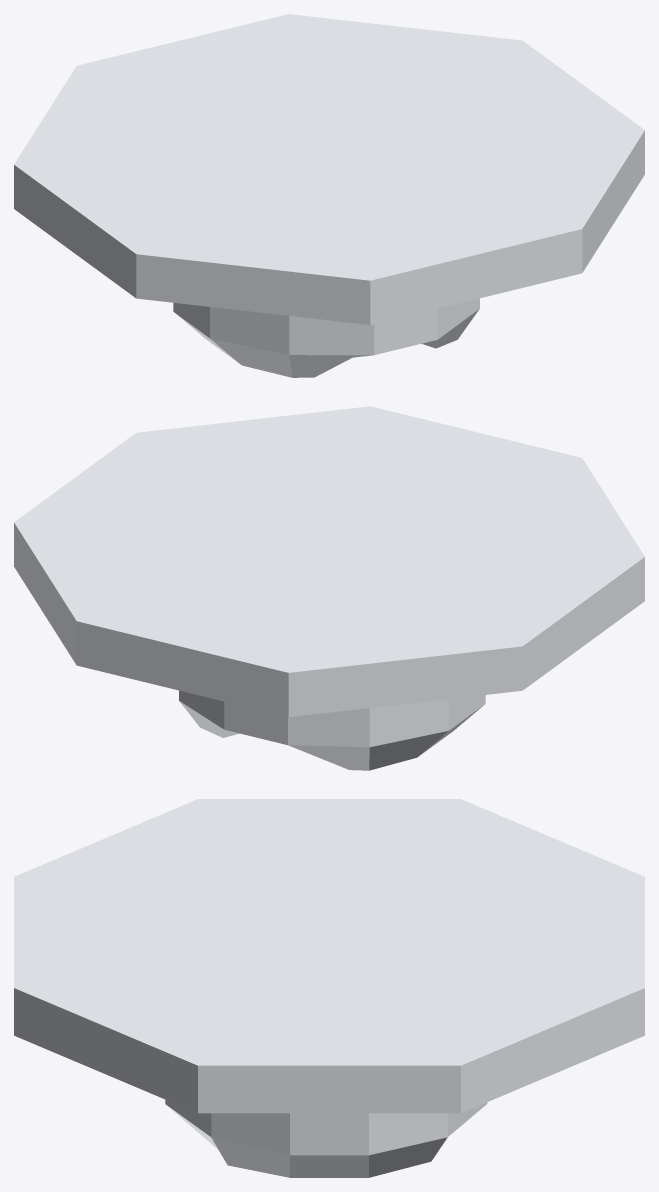
File: fgr_fur_beantable.fbx
3 views of the same model, one above another, from view 1: azimuth 30°, elevation 25°; view 2: azimuth 150°, elevation 25°; view 3: azimuth 270°, elevation 25° (orthographic). The views are drawn at different scales.
Parts seen in each view (by area): view 1: fgr_fur_beansa; view 2: fgr_fur_beansa; view 3: fgr_fur_beansa.
Boxes of the visible parts, bbox=[...] form: fgr_fur_beansa: bbox=[14, 14, 644, 377]; fgr_fur_beansa: bbox=[14, 406, 644, 770]; fgr_fur_beansa: bbox=[14, 799, 644, 1177].
Size of the model in its own units: 2400 by 844 by 2400.
Materials: 1 (1 with a texture image).
